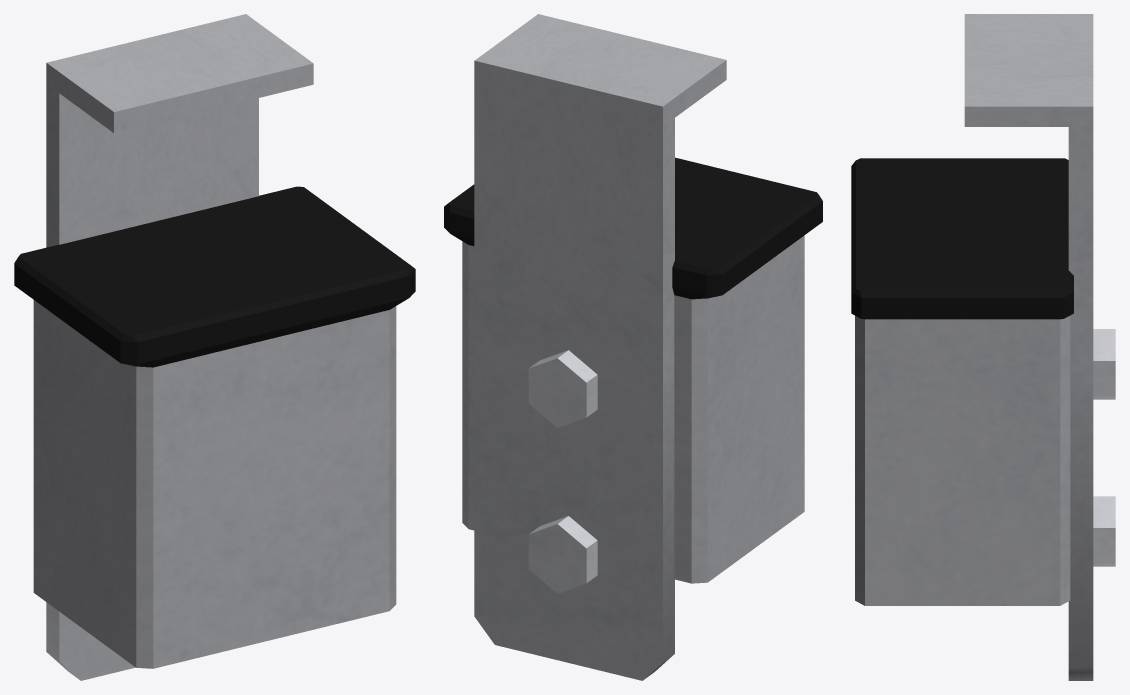
The model's file is TopCBC.glb.
3 renders of one model, left to right at view 1: azimuth 30°, elevation 25°; view 2: azimuth 150°, elevation 25°; view 3: azimuth 270°, elevation 25°, orthographic. The views are drawn at different scales.
Parts seen in each view (by area): view 1: LegsTop; view 2: LegsTop; view 3: LegsTop.
Part boxes in pixels (box(x1,y1,x2,y2)): LegsTop: box(14, 14, 415, 680); LegsTop: box(444, 14, 822, 680); LegsTop: box(851, 14, 1115, 680).
Size of the model in its own units: 0.224 by 0.4453 by 0.1827.
Materials: 3 (2 with a texture image).
